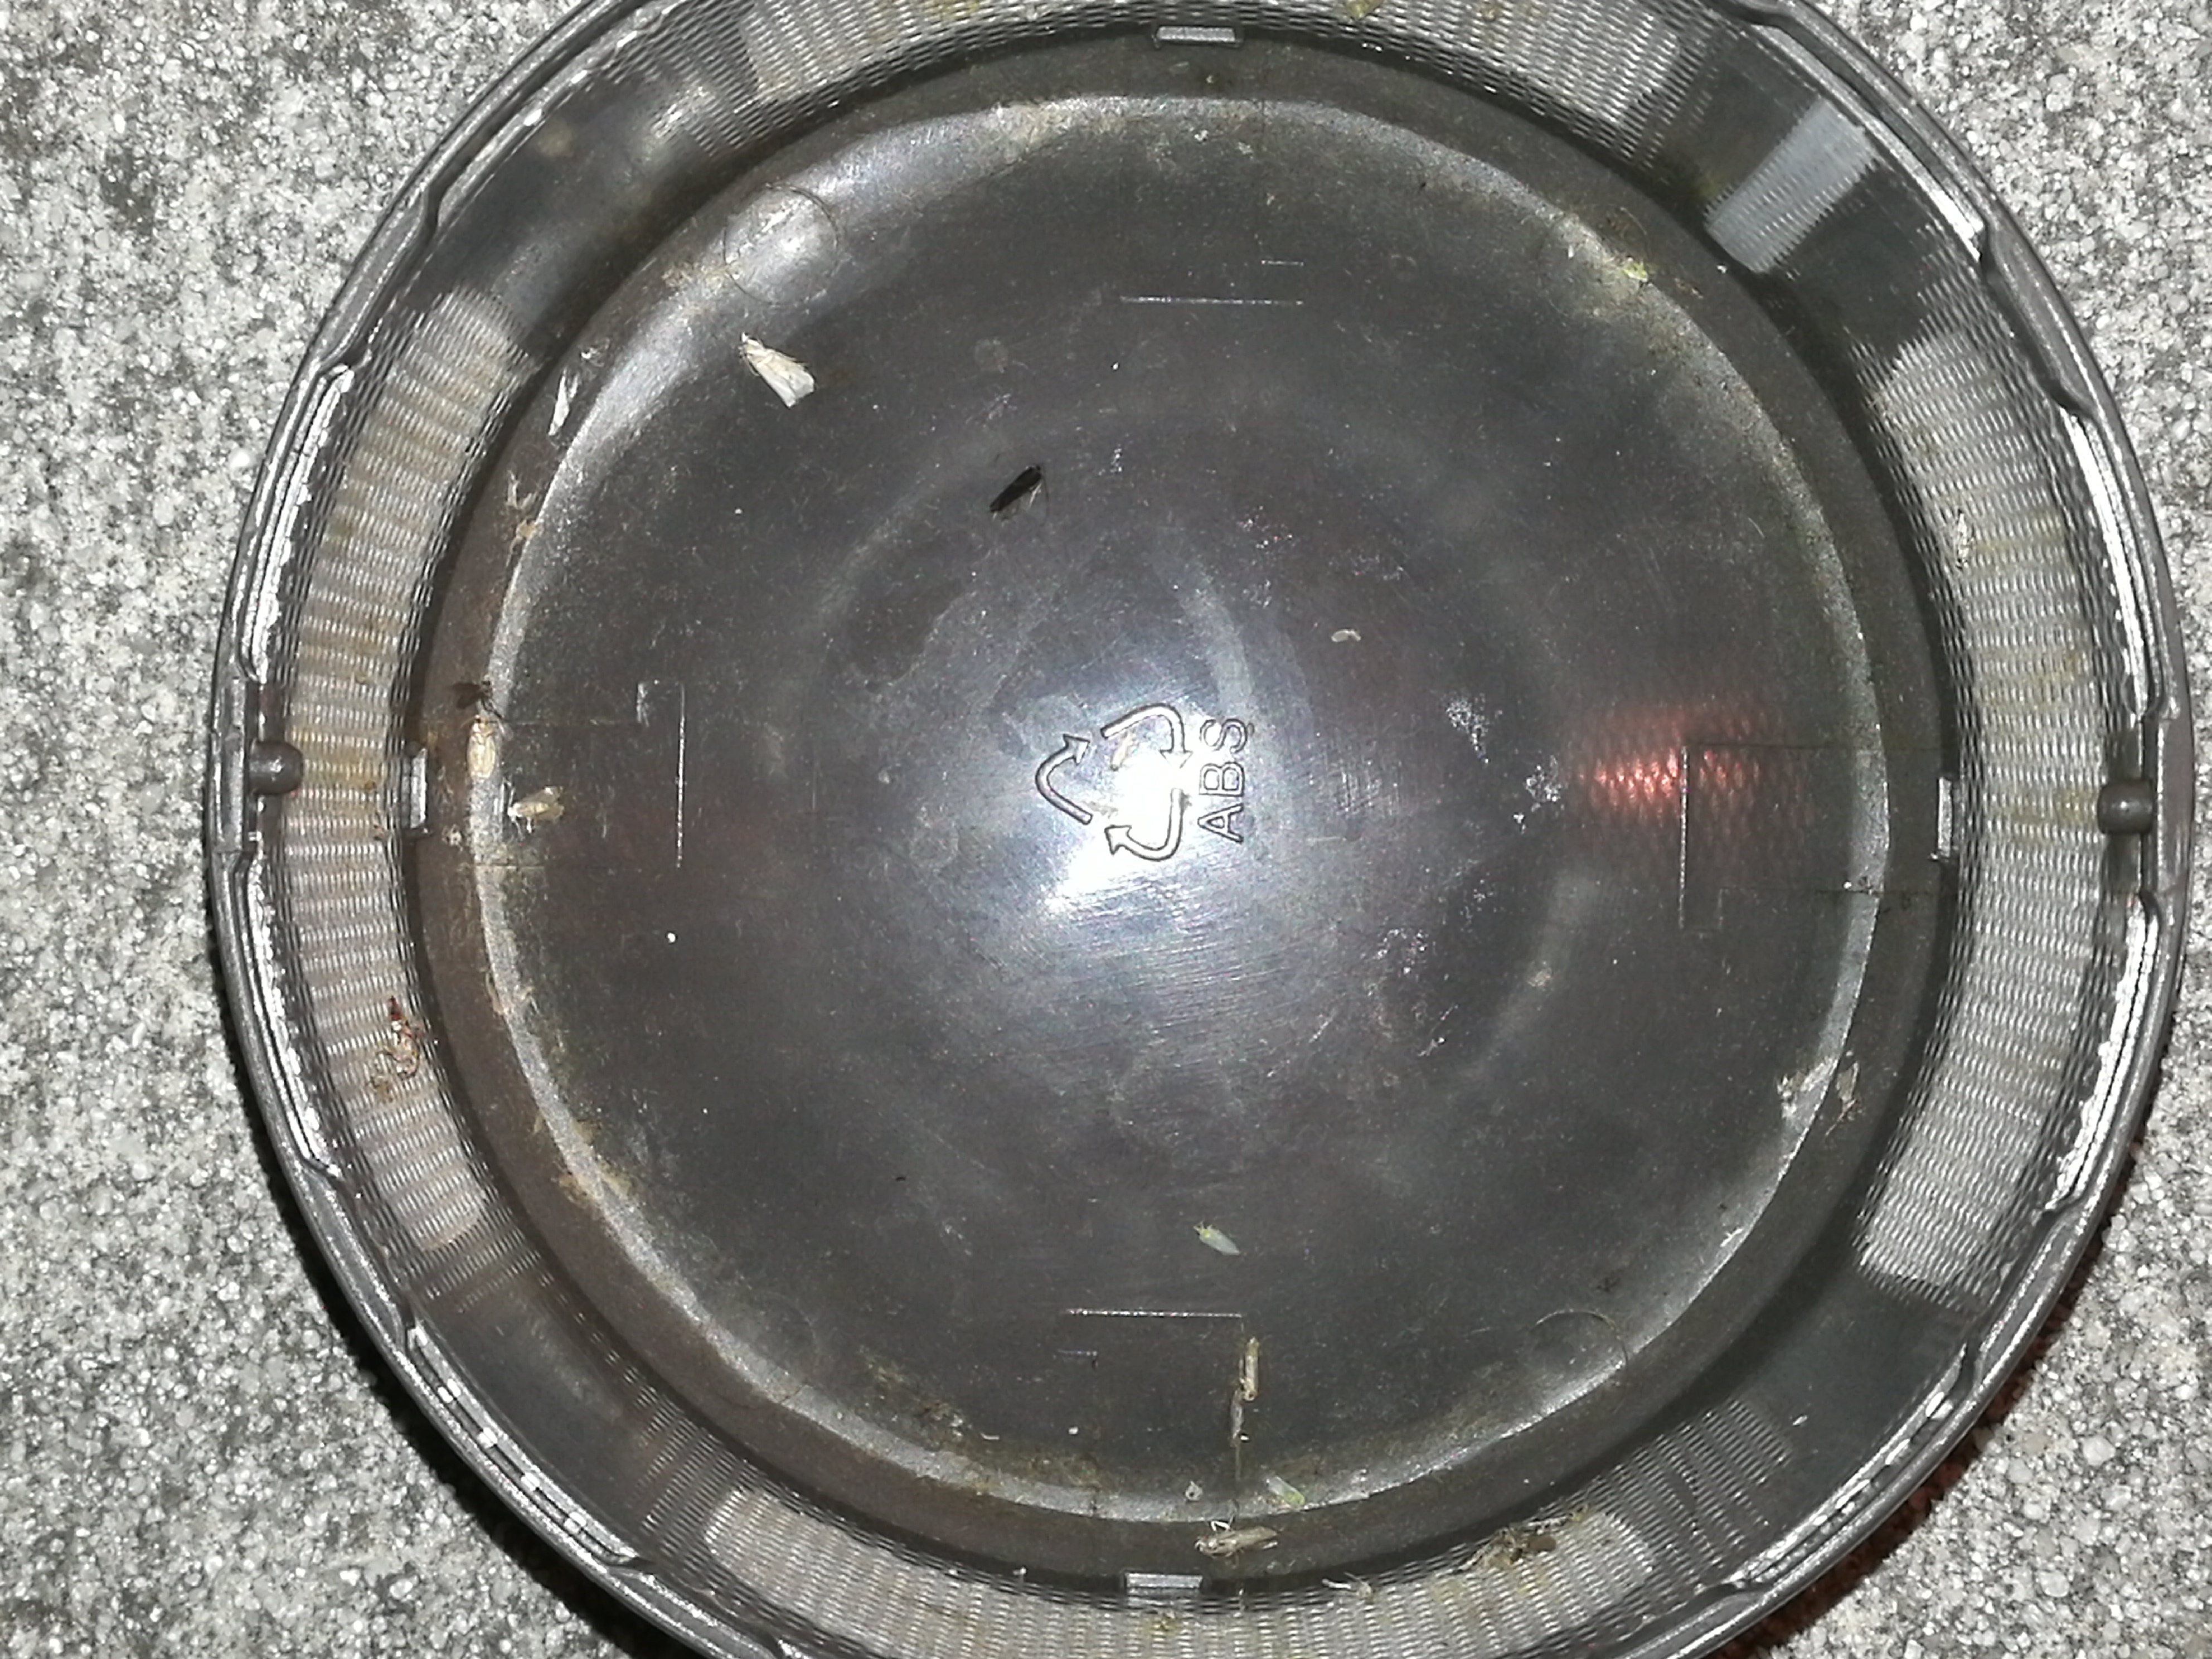mosquito: (1191, 1527, 1275, 1556), (991, 464, 1042, 511), (465, 716, 496, 777), (455, 683, 489, 706)
moth: (738, 331, 815, 408), (507, 782, 563, 821)
